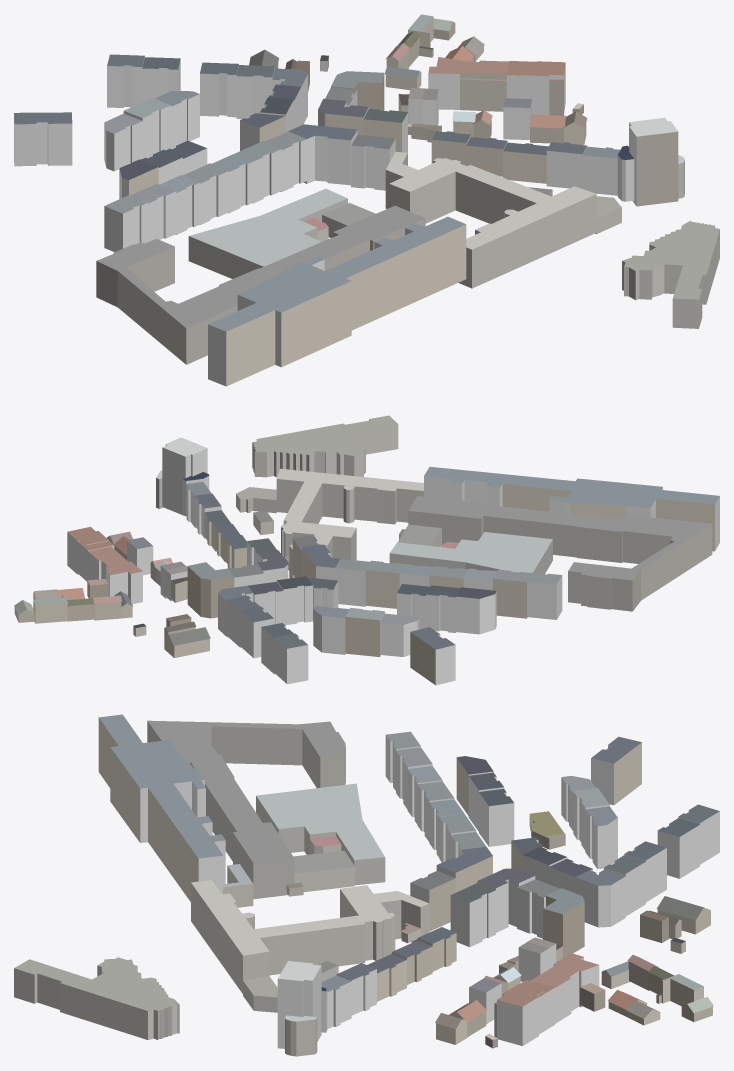
The picture shows the model from 3 angles, top to bottom: view 1: azimuth 30°, elevation 25°; view 2: azimuth 150°, elevation 25°; view 3: azimuth 270°, elevation 25°; orthographic projection. The views are drawn at different scales.
Parts seen in each view (by area): view 1: tuile; view 2: tuile; view 3: tuile.
Boxes of the visible parts, <box> form: tuile: <box>14,14,719,386</box>; tuile: <box>14,415,719,685</box>; tuile: <box>14,714,719,1056</box>.
Size of the model in its own units: 278 by 35.07 by 298.
